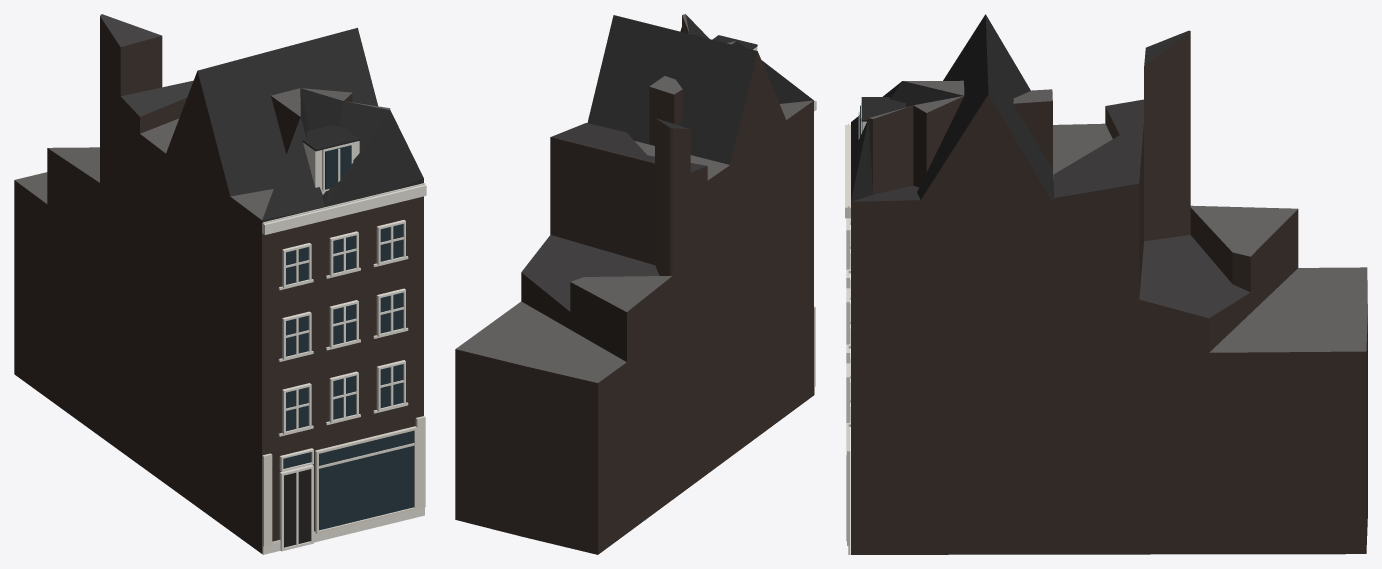
3 renders of one model, left to right at view 1: azimuth 30°, elevation 25°; view 2: azimuth 150°, elevation 25°; view 3: azimuth 270°, elevation 25°, orthographic. The views are drawn at different scales.
Parts seen in each view (by area): view 1: spec-0363100012182580; view 2: spec-0363100012182580; view 3: spec-0363100012182580.
Boxes of the visible parts, x1=… form: spec-0363100012182580: x1=14, y1=14, x2=426, y2=554; spec-0363100012182580: x1=455, y1=14, x2=816, y2=554; spec-0363100012182580: x1=845, y1=14, x2=1367, y2=554.
Size of the model in its own units: 5.92 by 15.19 by 15.63.
